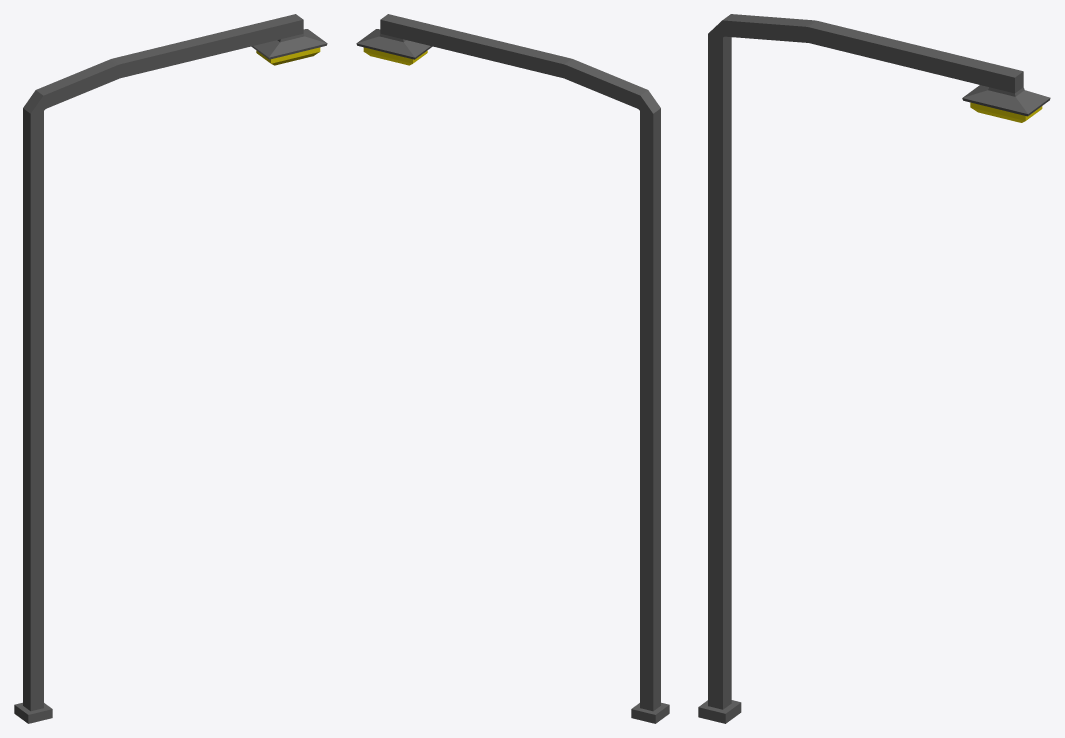
Rendered from lamp.fbx.
3 renders of one model, left to right at view 1: azimuth 30°, elevation 25°; view 2: azimuth 150°, elevation 25°; view 3: azimuth 330°, elevation 25°, orthographic. The views are drawn at different scales.
Parts seen in each view (by area): view 1: Cube; view 2: Cube; view 3: Cube.
Boxes of the visible parts, bbox=[...] form: Cube: bbox=[14, 14, 327, 723]; Cube: bbox=[356, 14, 669, 723]; Cube: bbox=[698, 14, 1050, 723].
Bounding box in the file's own units: 171 × 349 × 19.93.
